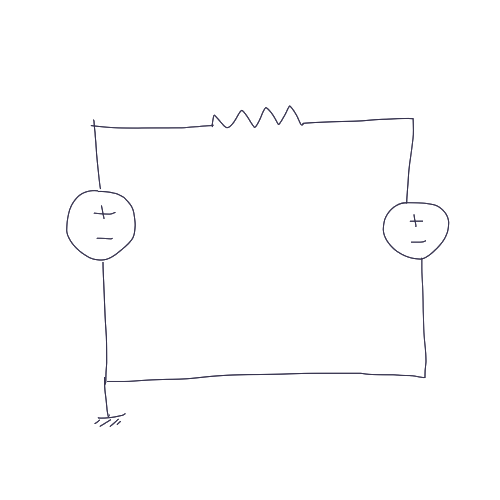dcvs: (65, 188, 140, 264), (379, 200, 452, 261)
gnd: (90, 413, 144, 428)
res: (202, 102, 310, 134)
